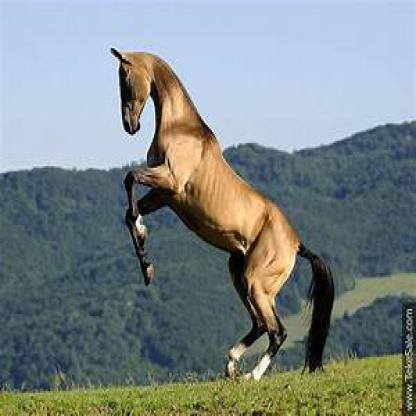horse: (110, 46, 337, 382)
